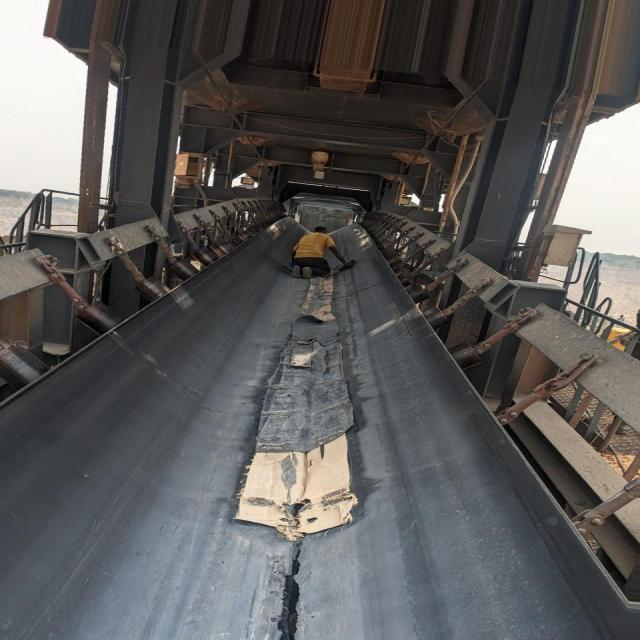Human: (290, 226, 353, 279)
Roller: (388, 258, 485, 370), (136, 224, 264, 302)
Tear: (280, 560, 300, 640)
patch work: (234, 308, 352, 534)
